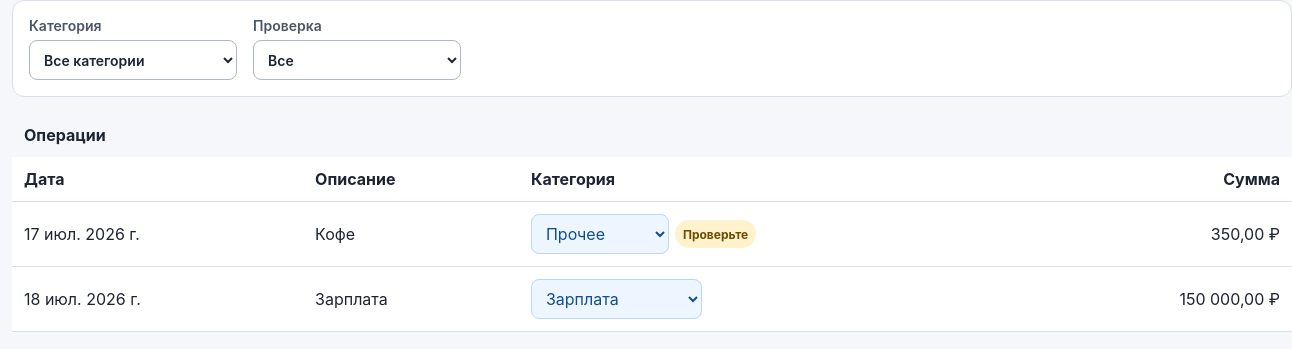
it: shows a distinct empty state after filters return no transactions
This screenshot has width=1292, height=349.
Select "Продукты" in the dropdown named "Фильтр по категории" at coordinates (133, 60), box [29, 40, 237, 80]
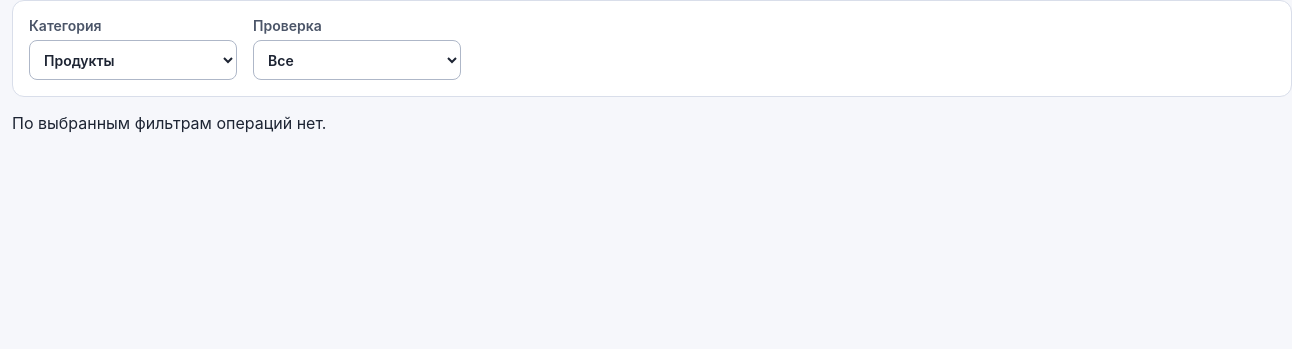
expect the text "По выбранным фильтрам операций нет." is shown: met, box [12, 113, 326, 133]
